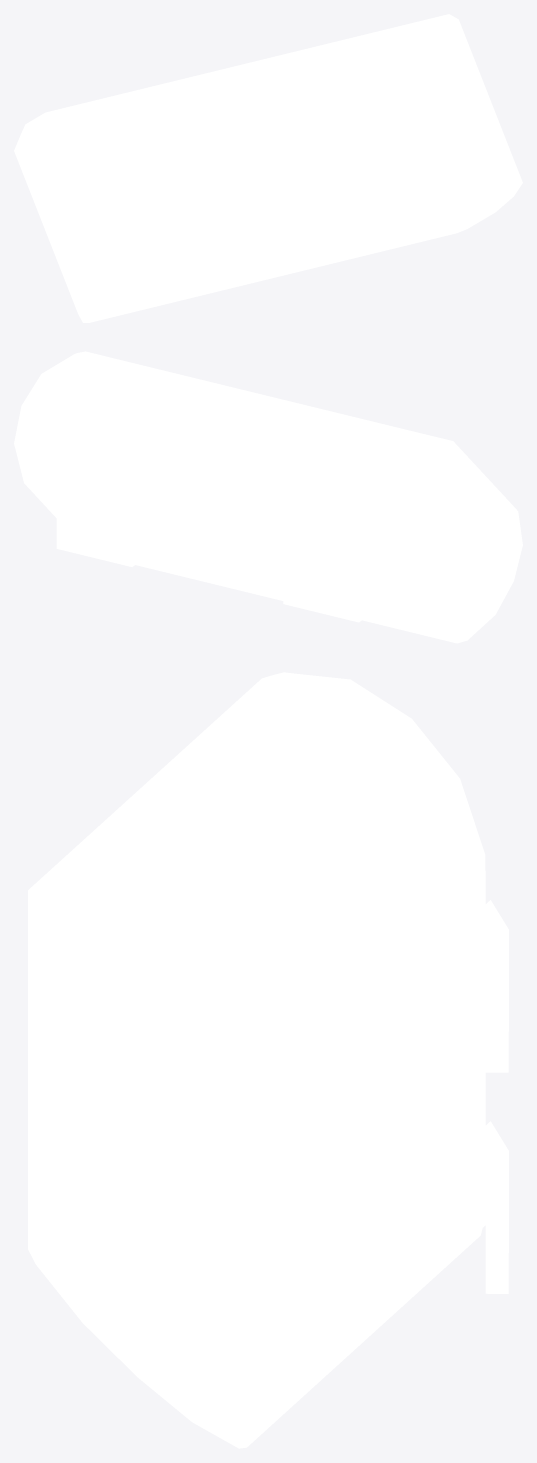
File: obj_fixtureLight_02.FBX
The picture shows the model from 3 angles, top to bottom: view 1: azimuth 30°, elevation 25°; view 2: azimuth 150°, elevation 25°; view 3: azimuth 270°, elevation 25°; orthographic projection. The views are drawn at different scales.
Visible parts, largest first — view 1: dead_pCube5; view 2: dead_pCube5; view 3: dead_pCube5.
Boxes of the visible parts, <box> form: dead_pCube5: <box>14,14,522,322</box>; dead_pCube5: <box>14,351,522,643</box>; dead_pCube5: <box>28,672,508,1448</box>.
Size of the model in its own units: 11.29 by 5.24 by 5.51.
